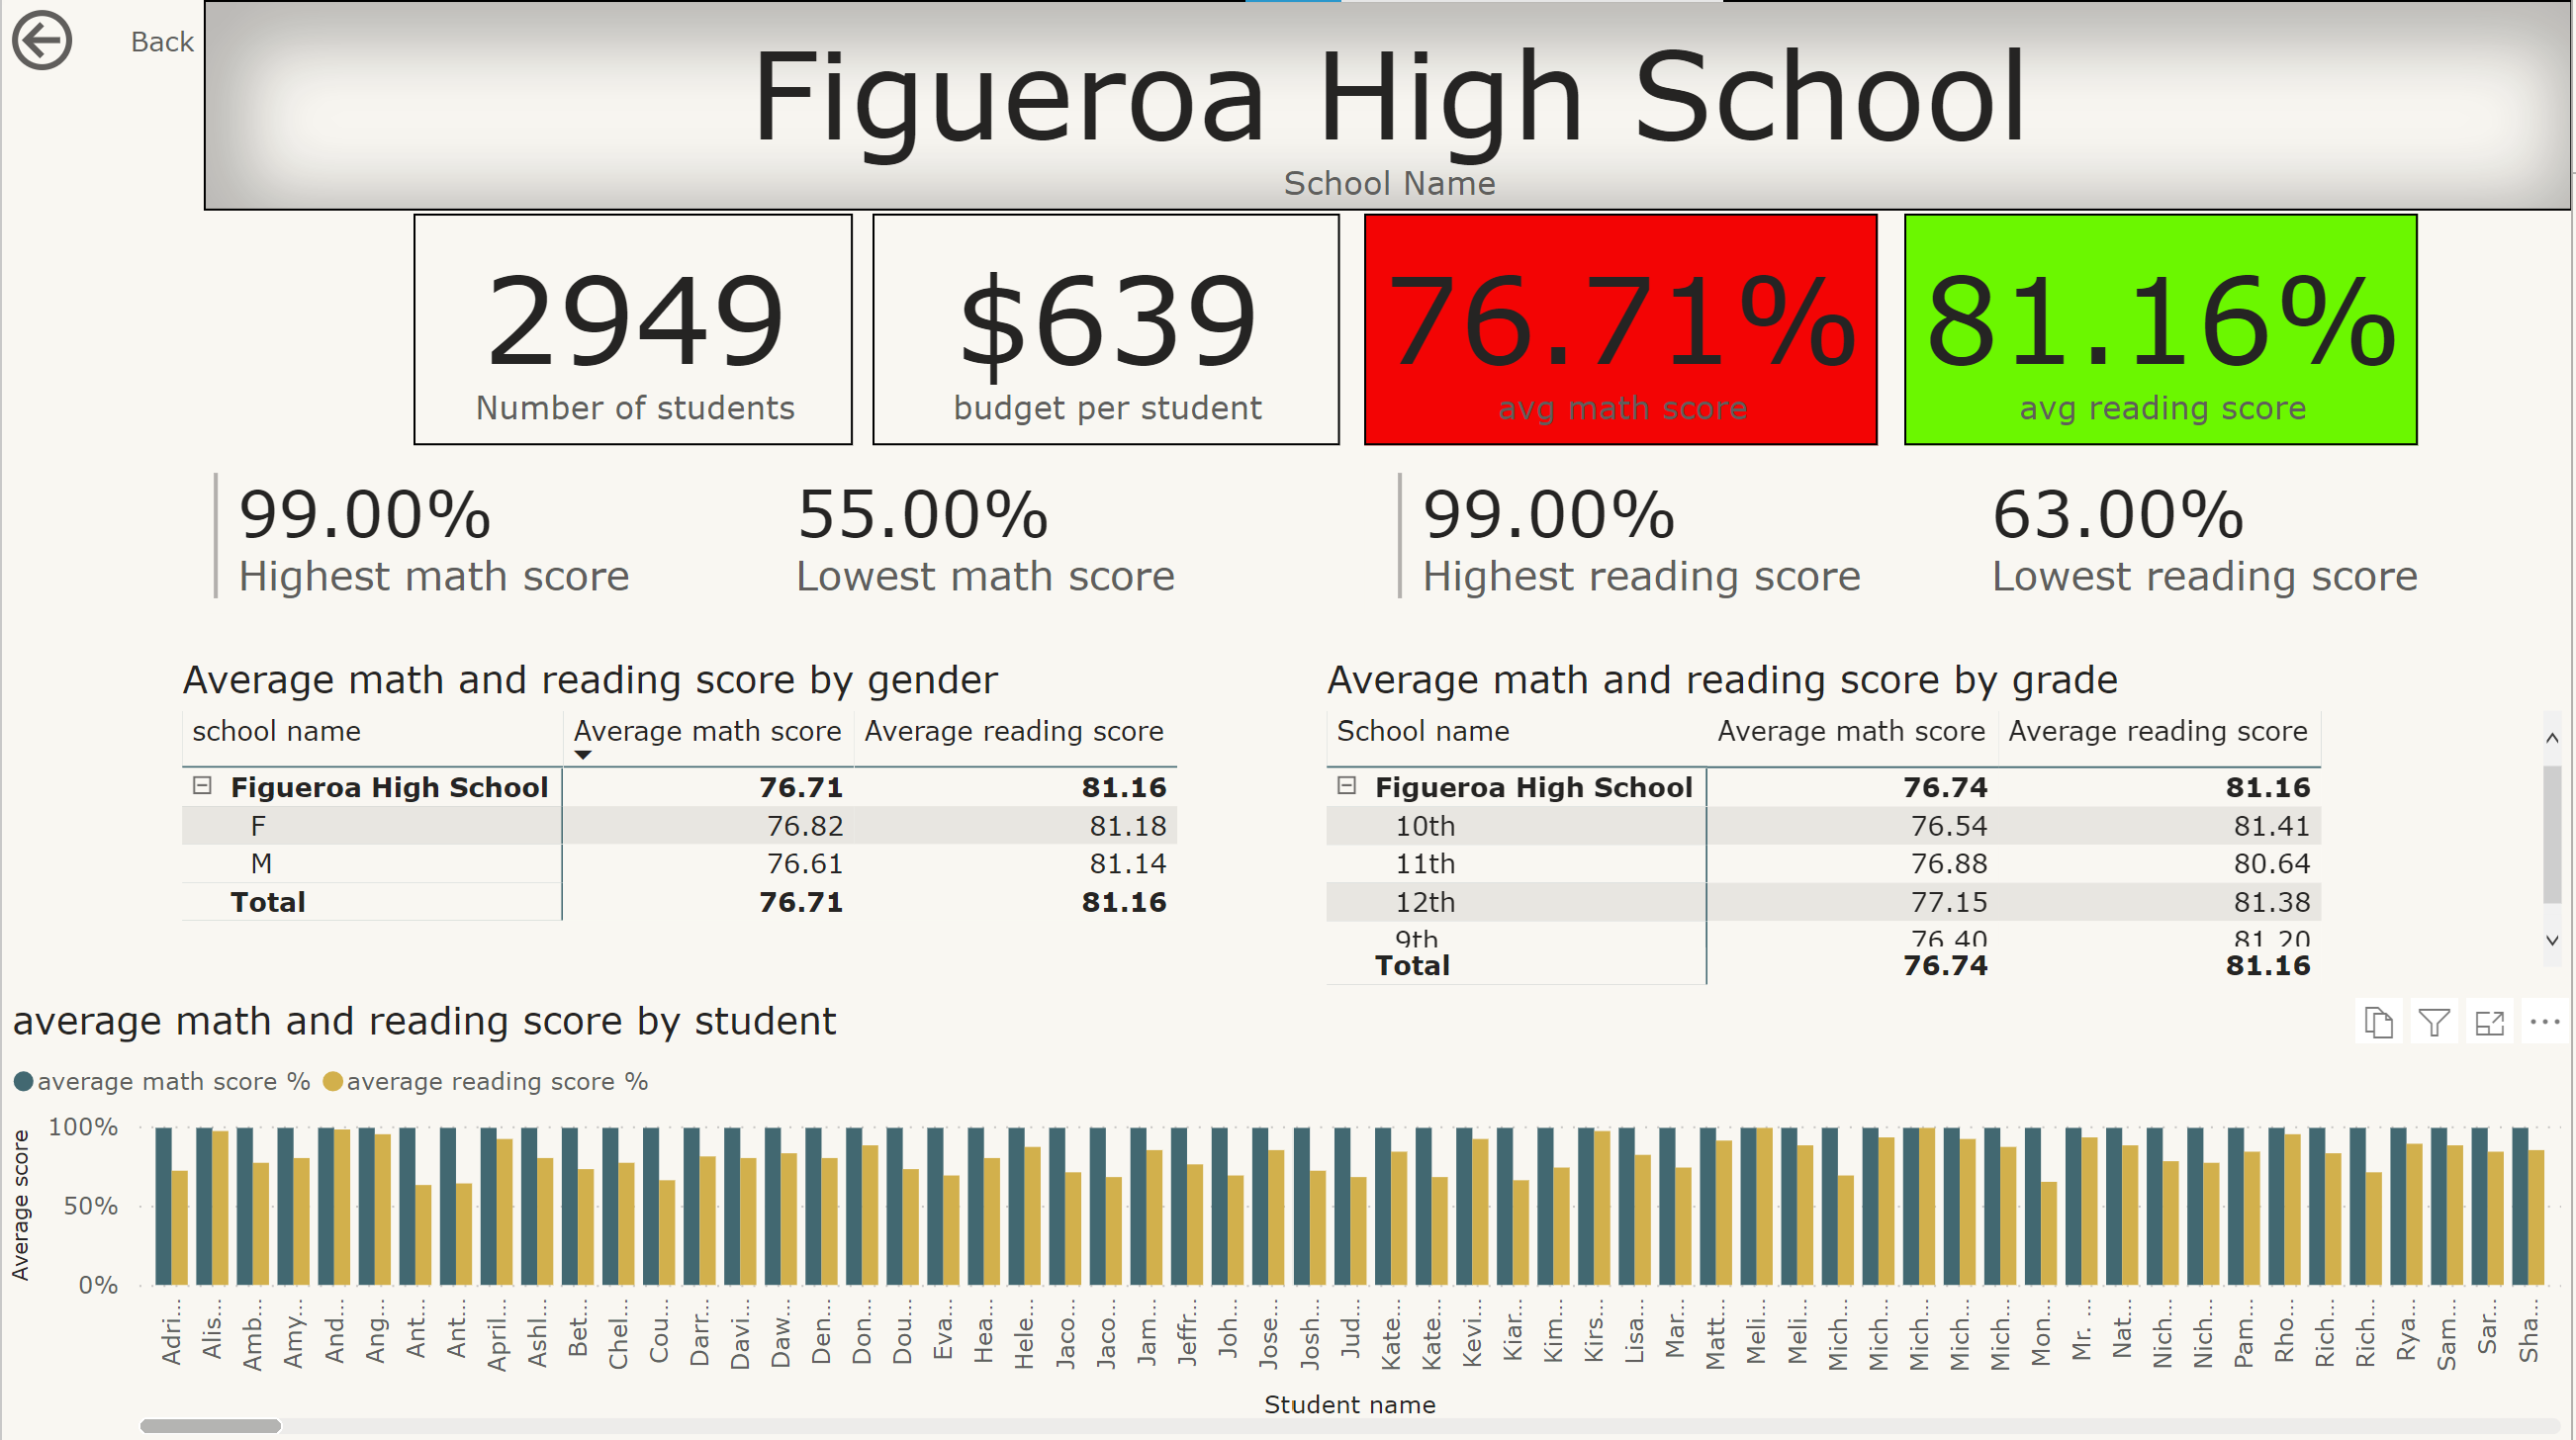

This screenshot's page, from the dashboard's own definition file:
{"tool":"powerbi","page":{"name":"School info","canvas":[1280,720],"ordinal":1},"visuals":[{"type":"pivotTable","title":"Average math and reading score by gender","fields":{"Rows":["scores_by_school_and_gender.school_name","scores_by_school_and_gender.gender"],"Values":["scores_by_school_and_gender.average math score","scores_by_school_and_gender.average reading score"]},"box":[84.6,326.8,562.2,169.2],"z":0},{"type":"pivotTable","title":"Average math and reading score by grade","fields":{"Rows":["scores_by_school_and_grade.school_name","scores_by_school_and_grade.grade"],"Values":["scores_by_school_and_grade.average math score","scores_by_school_and_grade.average reading score"]},"box":[654.6,326.8,625.4,169.2],"z":1000},{"type":"actionButton","box":[0,0,100,40],"z":2000},{"type":"card","fields":{"Values":["budget per student.budget per student"]},"box":[433.8,107,232.5,115.7],"z":3000},{"type":"card","fields":{"Values":["budget per student.size"]},"box":[205.3,107,218.8,115.7],"z":4000},{"type":"card","fields":{"Values":["budget per student.school_name"]},"box":[100.2,0,1179.8,105],"z":5000},{"type":"card","fields":{"Values":["average_scores.avg math score"]},"box":[678.9,107,255.8,115.7],"z":6000},{"type":"card","fields":{"Values":["average_scores.avg reading score"]},"box":[947.4,107,255.8,115.7],"z":7000},{"type":"multiRowCard","title":"Highest math score","fields":{"Values":["students_complete.average math score %","students_complete.average math score %"]},"box":[100.2,230.5,577.8,74.9],"z":7001},{"type":"multiRowCard","fields":{"Values":["students_complete.average reading score %","Sum(students_complete.average reading score %)1"]},"box":[690.6,230.5,589.4,74.9],"z":7002},{"type":"clusteredColumnChart","title":"average math  and reading score by student","fields":{"Y":["students_complete.average math score %","students_complete.average reading score %"],"Category":["students_complete.student_name"]},"box":[0,496,1280,223.7],"z":7003}]}

Visuals, with their boxes on the page's 1280x720 design canvas (x1, y1, x2, y2). These are canvas units, not pixel positions in the 2576x1440 screenshot, which may show the page scaled, cropped or inside an application window:
"Average math and reading score by gender" pivotTable: (85,327,647,496)
"Average math and reading score by grade" pivotTable: (655,327,1280,496)
actionButton: (0,0,100,40)
card - budget per student.budget per student: (434,107,666,223)
card - budget per student.size: (205,107,424,223)
card - budget per student.school_name: (100,0,1280,105)
card - average_scores.avg math score: (679,107,935,223)
card - average_scores.avg reading score: (947,107,1203,223)
"Highest math score" multiRowCard: (100,230,678,305)
multiRowCard - students_complete.average reading score % x Sum(students_complete.average reading score %)1: (691,230,1280,305)
"average math  and reading score by student" clusteredColumnChart: (0,496,1280,720)
